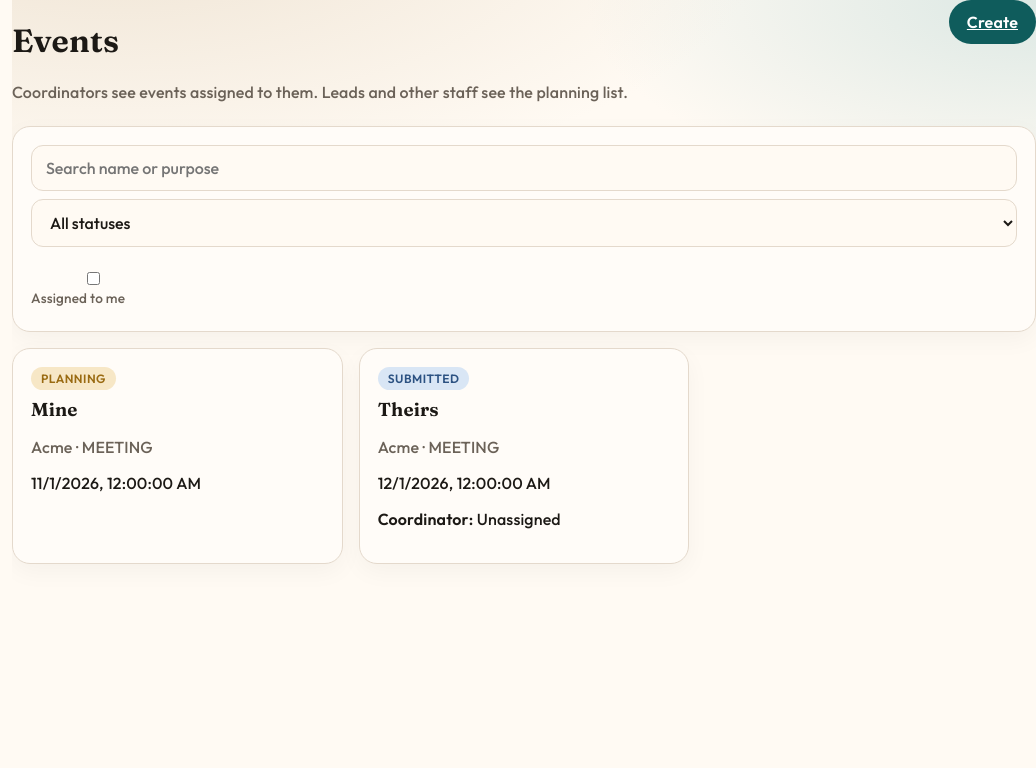
Test: SCRUM-84 coordinator event list › AC3: a Lead sees the full list again after clearing Assigned to me
This screenshot has width=1036, height=768.
Expected: the heading "Theirs" is shown, [378, 398, 439, 421]
Click the checkbox labelled "Assigned to me".
click(93, 278)  # box [35, 272, 152, 285]
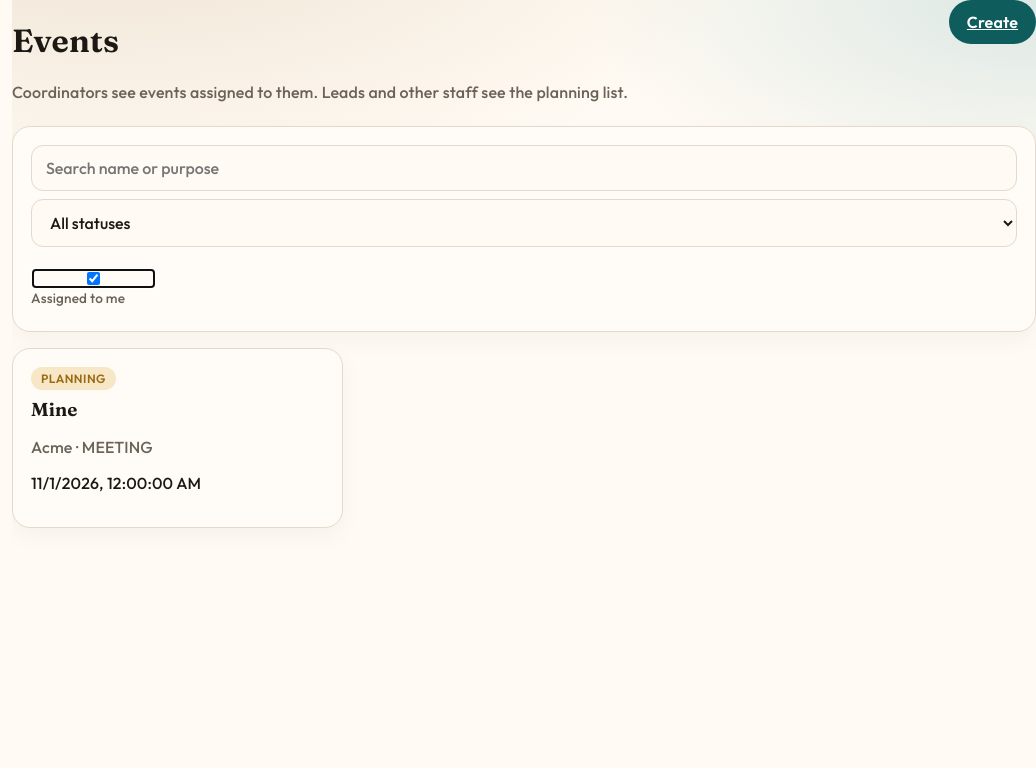
Expected: the link "Theirs" is gone
Click the checkbox labelled "Assigned to me".
click(93, 278)  # box [35, 272, 152, 285]
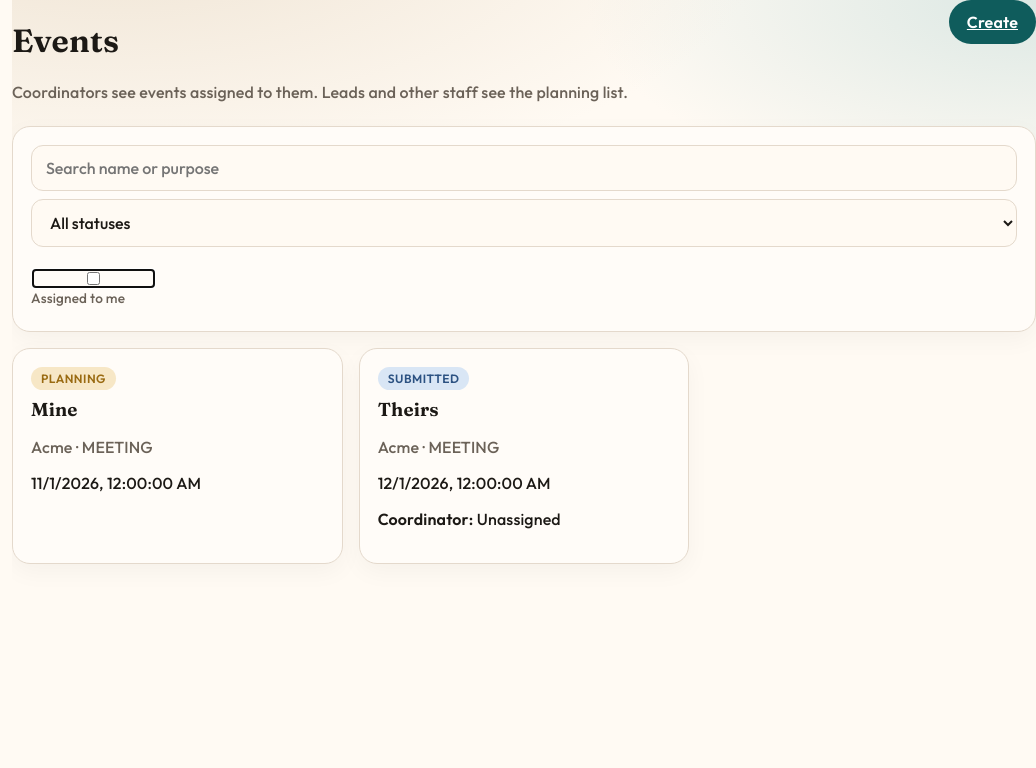
Expected: the heading "Mine" is shown, [31, 398, 78, 421]
Expected: the heading "Theirs" is shown, [378, 398, 439, 421]
